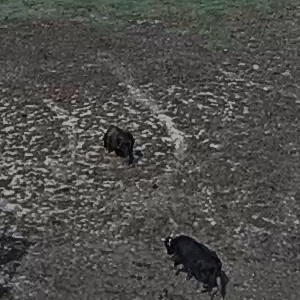cow: (149, 224, 235, 298), (98, 124, 151, 174)
